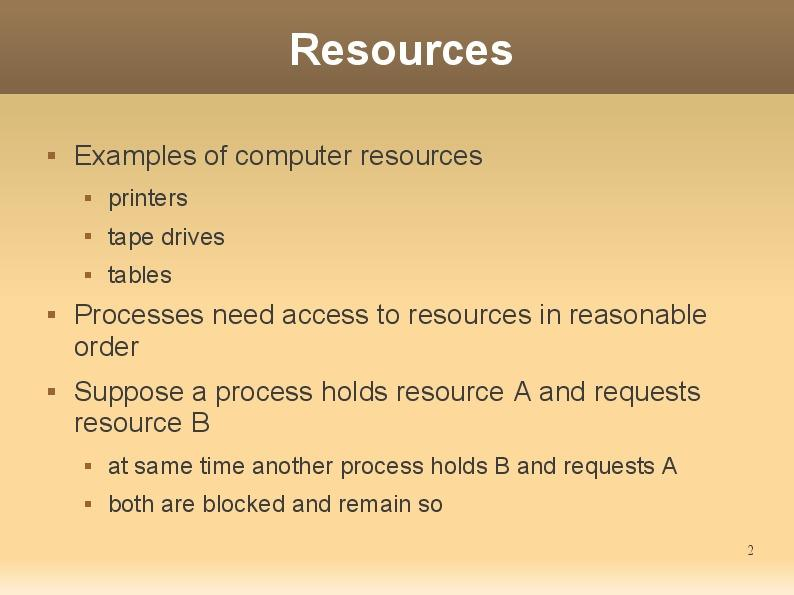paragraph: (20, 124, 754, 544)
title: (277, 22, 526, 82)
